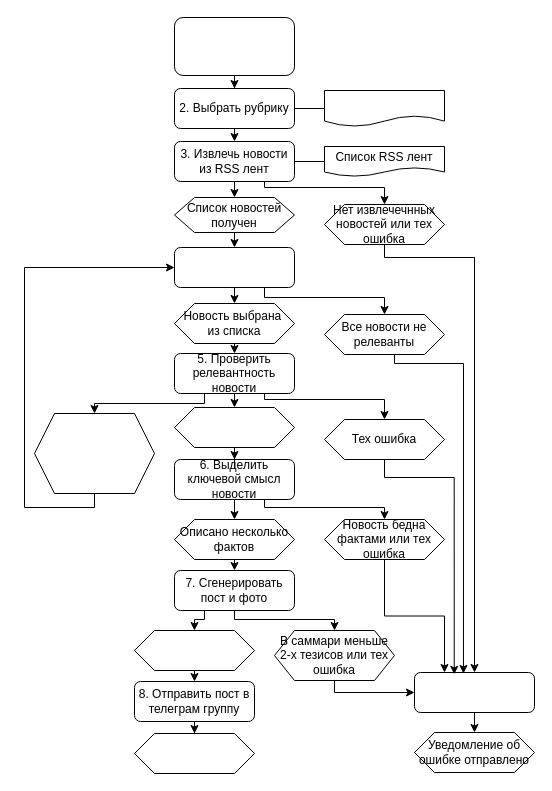
The diagram is 552 pixels wide and 791 high, and some of its shapes have lost their labels. Each missing label, with the centre of its shape:
"1. Запустить процесс (по расписанию/вручную)" belongs at (x=234, y=46).
"4. Выбрать следующую новость для обработки" belongs at (x=234, y=267).
"9. Отправить уведомление в телеграм группу" belongs at (x=474, y=692).
"Места, события, советы" belongs at (x=384, y=108).
"Новость НЕ релевантна ИЛИ описание слишком короткое" belongs at (x=94, y=453).
"Новость релевантна" belongs at (x=234, y=427).
"Пост в телеграм группу отправлен" belongs at (x=194, y=753).
"Сформированы текст и фото" belongs at (x=194, y=650).
